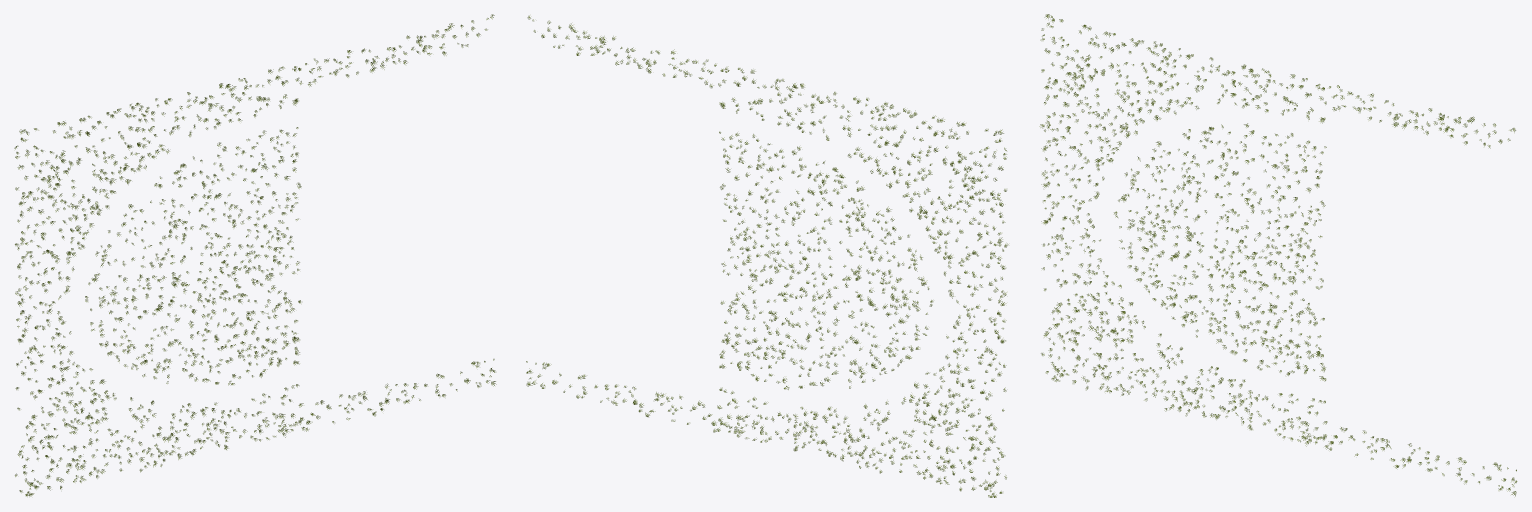
Rendered from undergrowth.obj.
3 renders of one model, left to right at view 1: azimuth 30°, elevation 25°; view 2: azimuth 150°, elevation 25°; view 3: azimuth 330°, elevation 25°, orthographic.
Parts seen in each view (by area): view 1: undergrowth; view 2: undergrowth; view 3: undergrowth.
Boxes of the visible parts, bbox=[...] form: undergrowth: bbox=[14, 14, 496, 496]; undergrowth: bbox=[526, 15, 1008, 497]; undergrowth: bbox=[1039, 14, 1517, 496].
Size of the model in its own units: 76.39 by 56.89 by 3.05.
